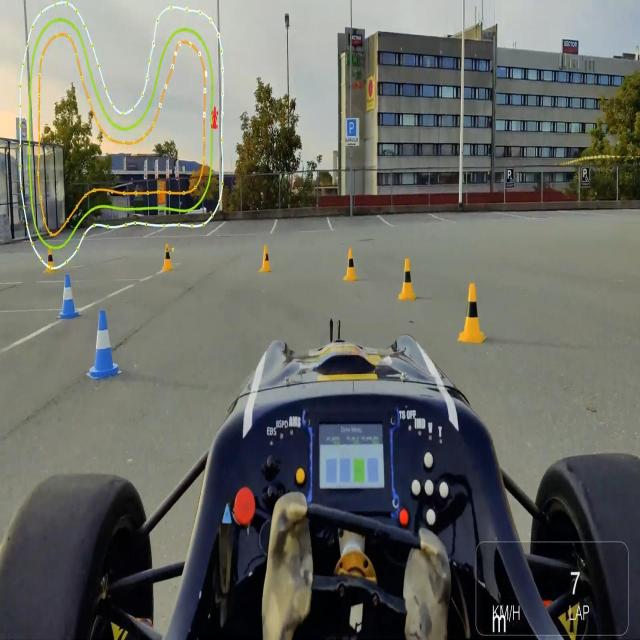blue_cone: (88, 308, 121, 378), (59, 270, 80, 322)
yellow_cone: (459, 282, 487, 346), (399, 256, 416, 302), (345, 247, 357, 282), (44, 244, 56, 276), (163, 242, 174, 273), (262, 247, 271, 276)
